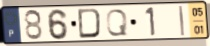1: (144, 5, 157, 38)
6: (46, 8, 71, 41)
8: (23, 9, 44, 42)
D: (76, 7, 103, 40)
I: (178, 5, 187, 38)
Q: (105, 8, 129, 38)
